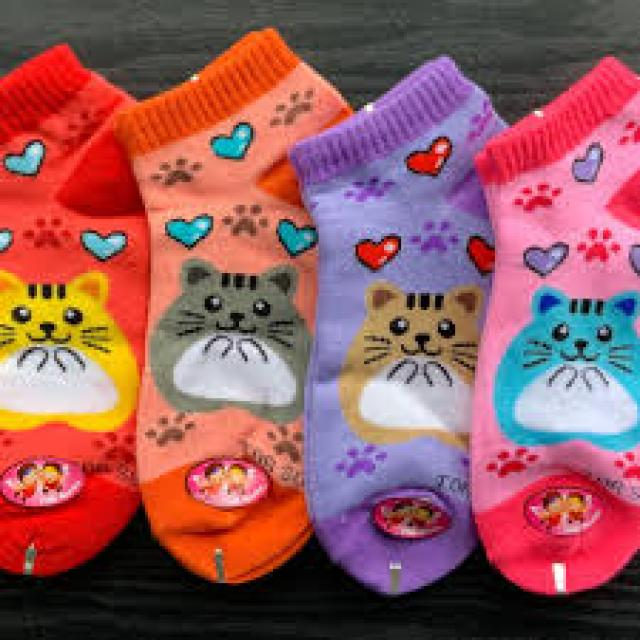sock: (114, 26, 352, 583), (287, 51, 509, 595), (467, 54, 637, 595), (0, 40, 148, 577)
